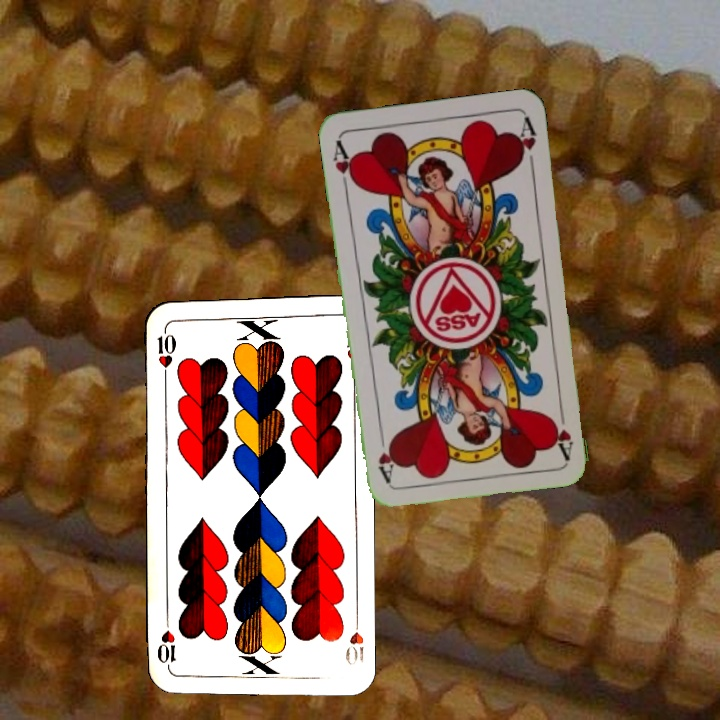H10: (153, 321, 179, 380), (341, 610, 367, 668)
HA: (329, 136, 359, 195), (548, 401, 576, 460)
